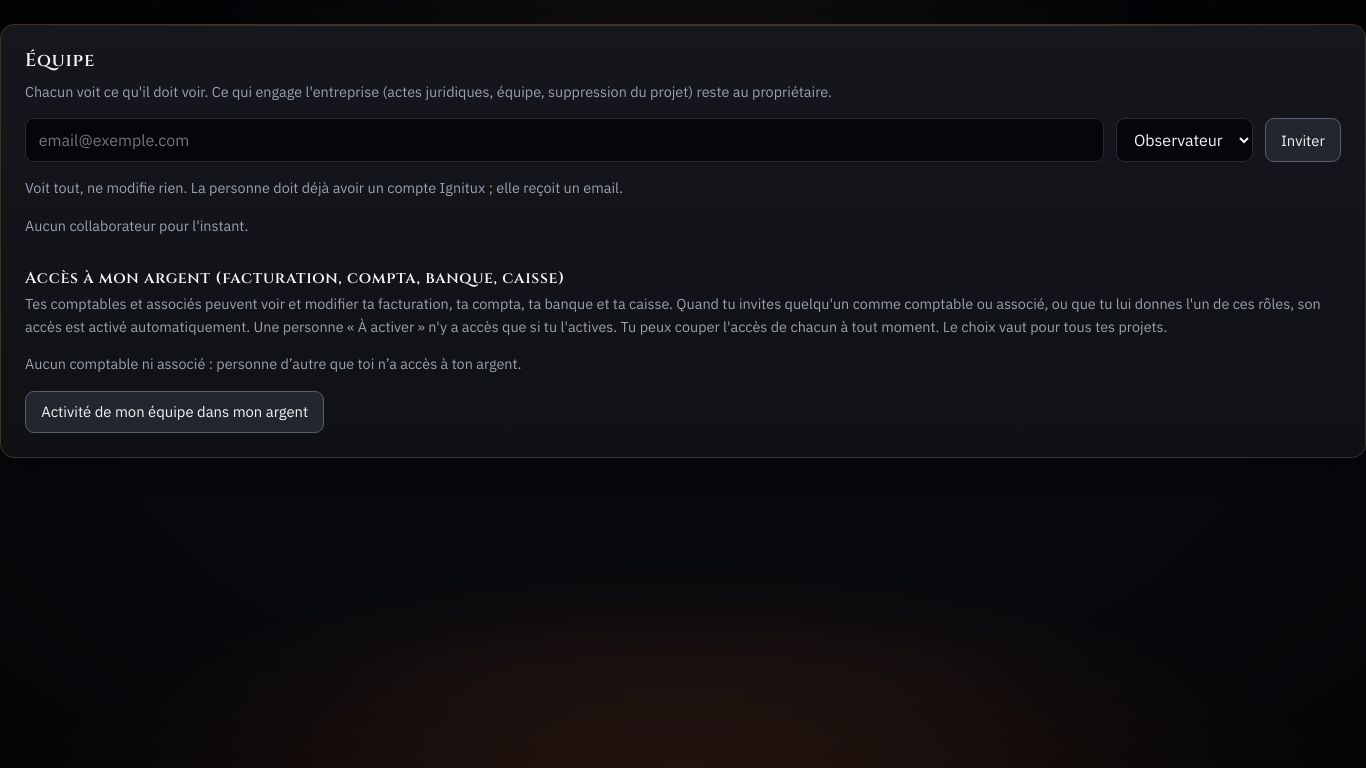
Test: CollaboratorsSection › affiche une erreur si l'invitation échoue
Check: the text "Aucun collaborateur pour l'instant." is shown, box left=25, top=216, right=248, bottom=235
Type "inconnu@example.com" into the field named "Email du collaborateur à ajouter". click: point(565, 140)
box: left=25, top=118, right=1104, bottom=162
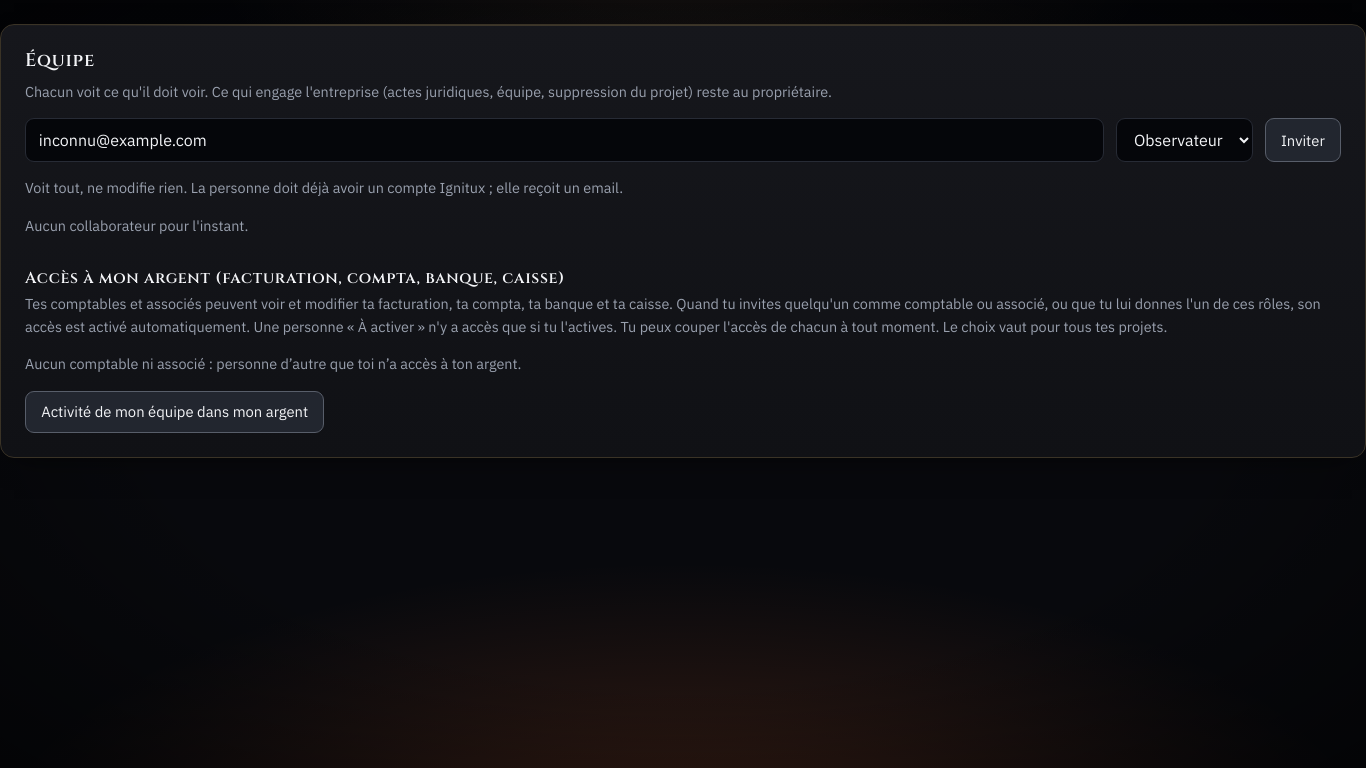
Click the button "Inviter". click: point(1303, 140)
box: left=1265, top=118, right=1341, bottom=162
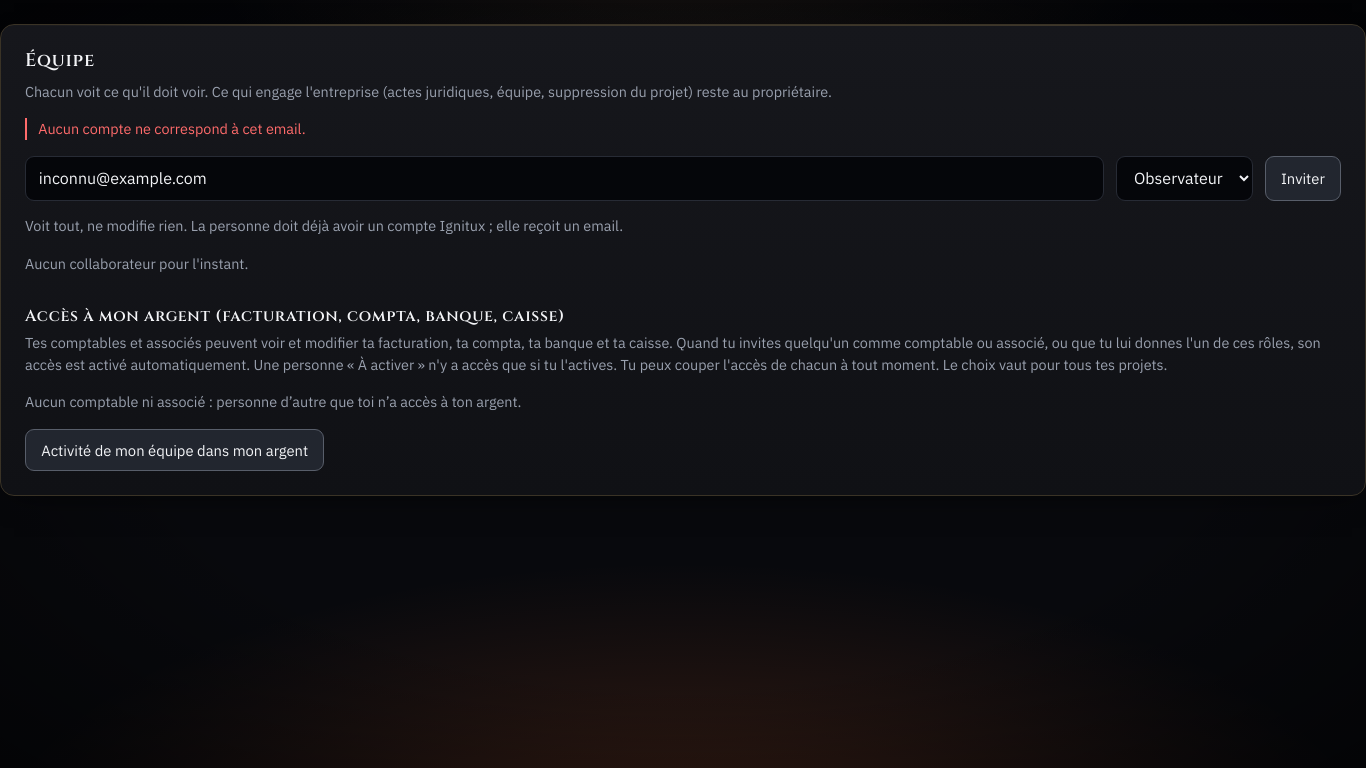
Check: the text "Aucun compte ne correspond à cet email." is shown, box left=25, top=118, right=1341, bottom=140
